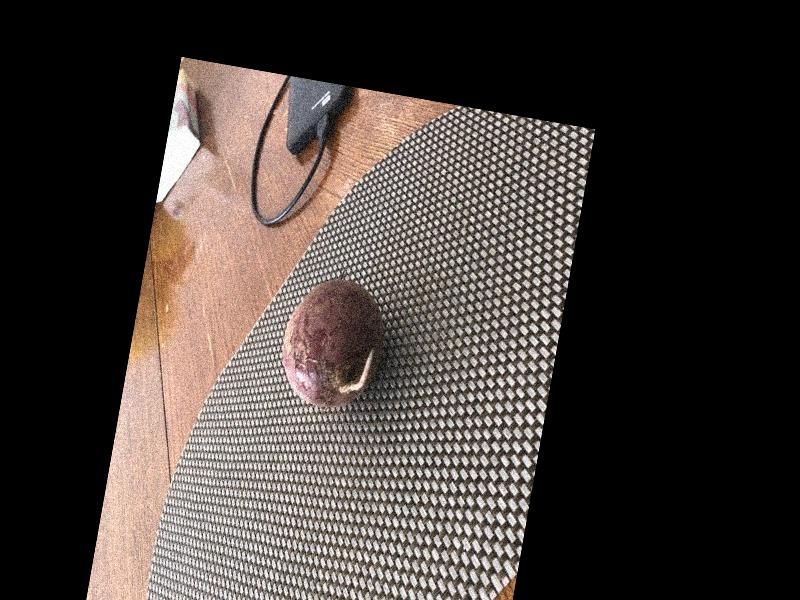Beet: (273, 271, 392, 414)
